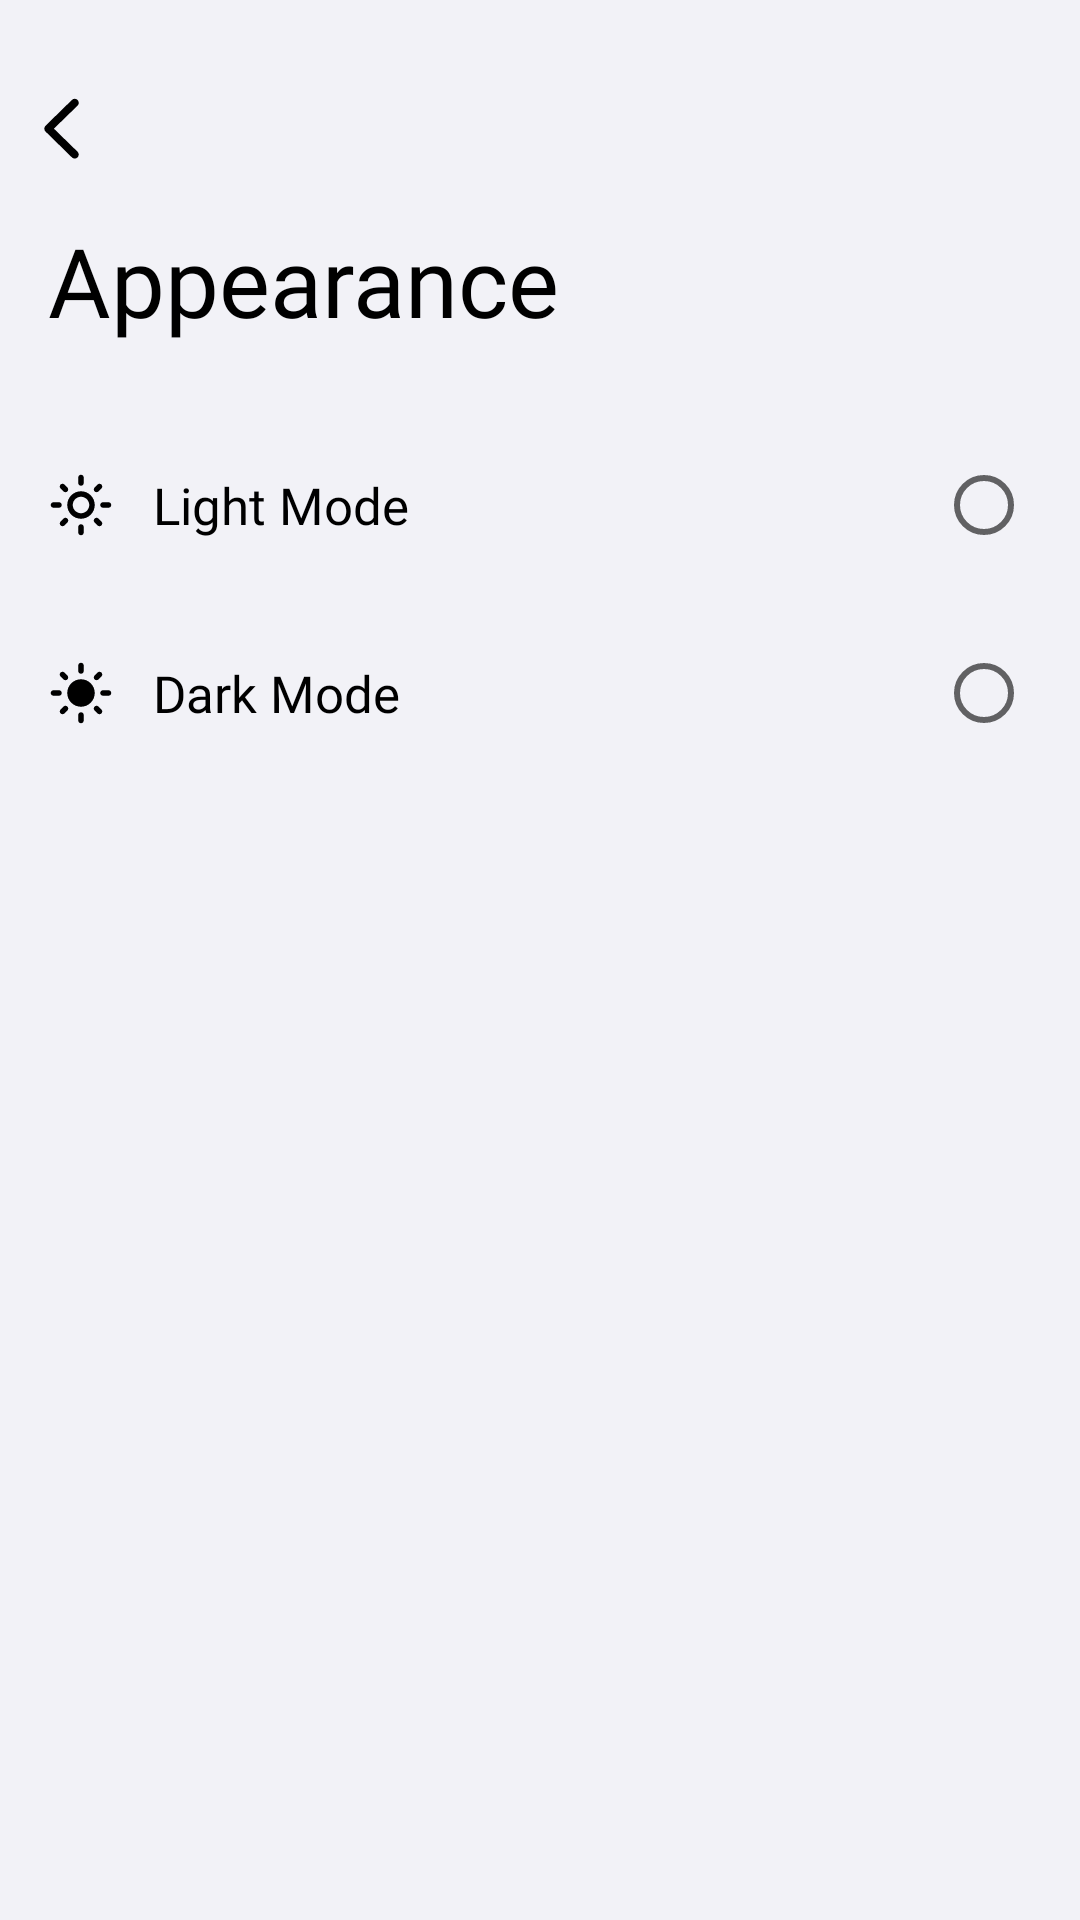

Screen size 1080x1920. Icon name, then its box in pixels as (x1, y1, x2, y2):
chevron left: (44, 98, 79, 159)
